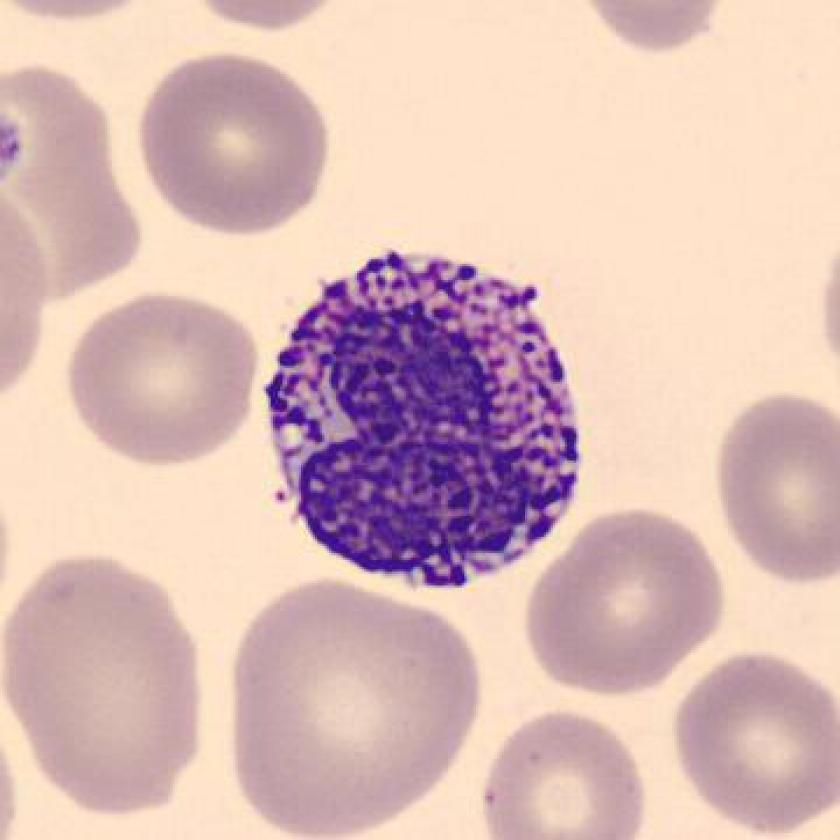basophil: (260, 249, 591, 600)
